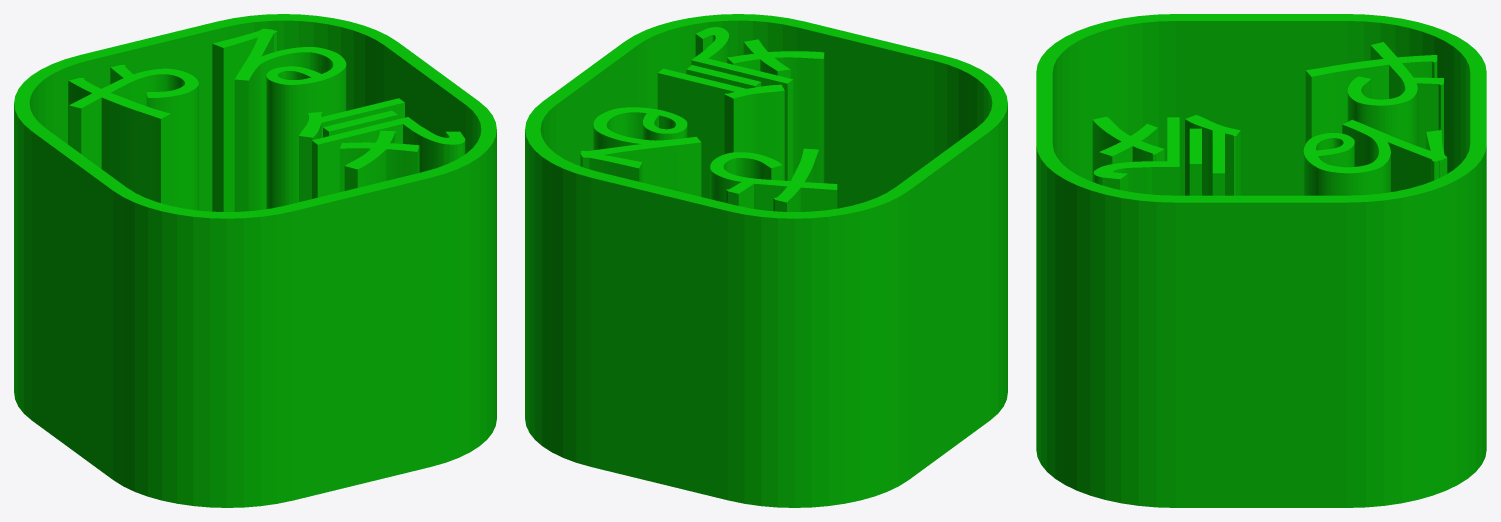
Rendered from やる気.fbx.
3 renders of one model, left to right at view 1: azimuth 30°, elevation 25°; view 2: azimuth 150°, elevation 25°; view 3: azimuth 270°, elevation 25°, orthographic. The views are drawn at different scales.
Visible parts, largest first — view 1: Curve.003; view 2: Curve.003; view 3: Curve.003.
Part boxes in pixels (x1=…): Curve.003: x1=14, y1=14, x2=496, y2=507; Curve.003: x1=525, y1=14, x2=1007, y2=507; Curve.003: x1=1036, y1=14, x2=1486, y2=507.
Size of the model in its own units: 15.89 by 12 by 16.05.
